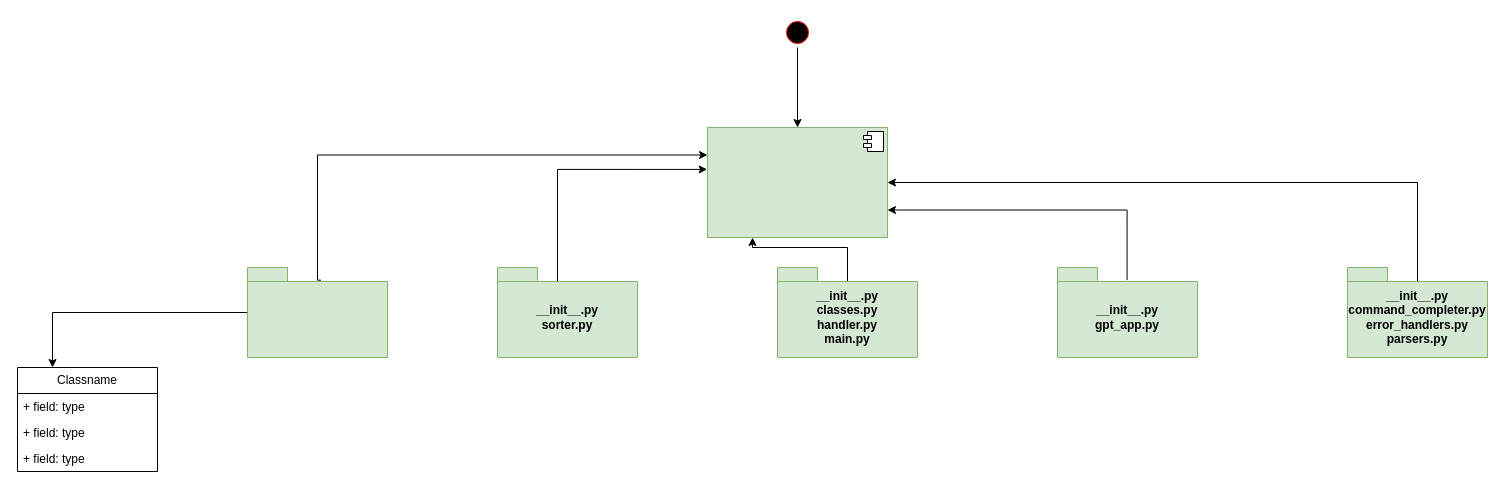
The diagram is 1505 pixels wide and 492 high, and some of its shapes have lost their labels. The box of each missing label's shape, as (x1, y1, x2, y2) in pixels:
__init__.py addressbook_class.py addressbook_main.py: (246, 266, 388, 358)
menu.py + MENU_MAPING +END_COMMANDS +main() +print_menu() +exit_bot(): (706, 126, 888, 238)
